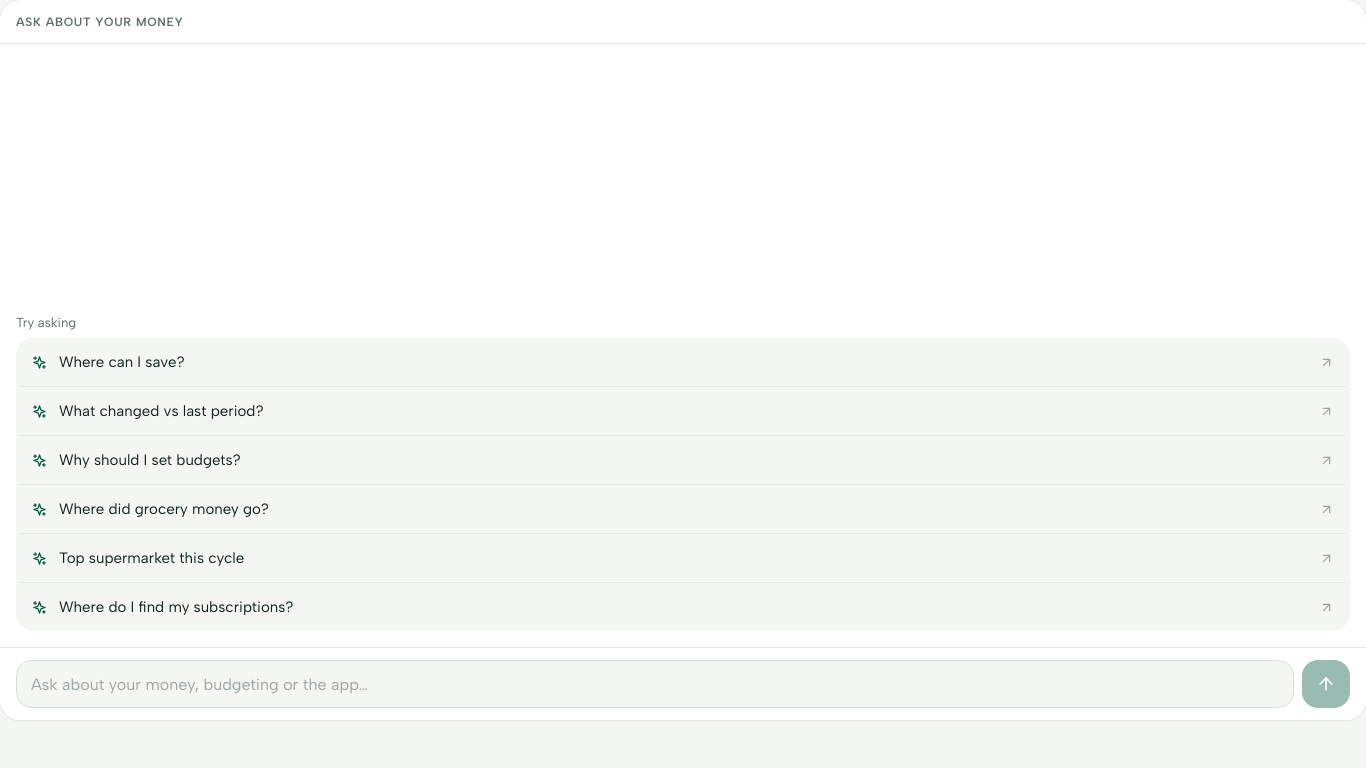
Test case: ChatPanel with evidence › shows the rate-limit message for 429
Type "hello" into the field named "Ask about your spending".
click(655, 684); type("hello")  # box x1=16 y1=660 x2=1294 y2=708
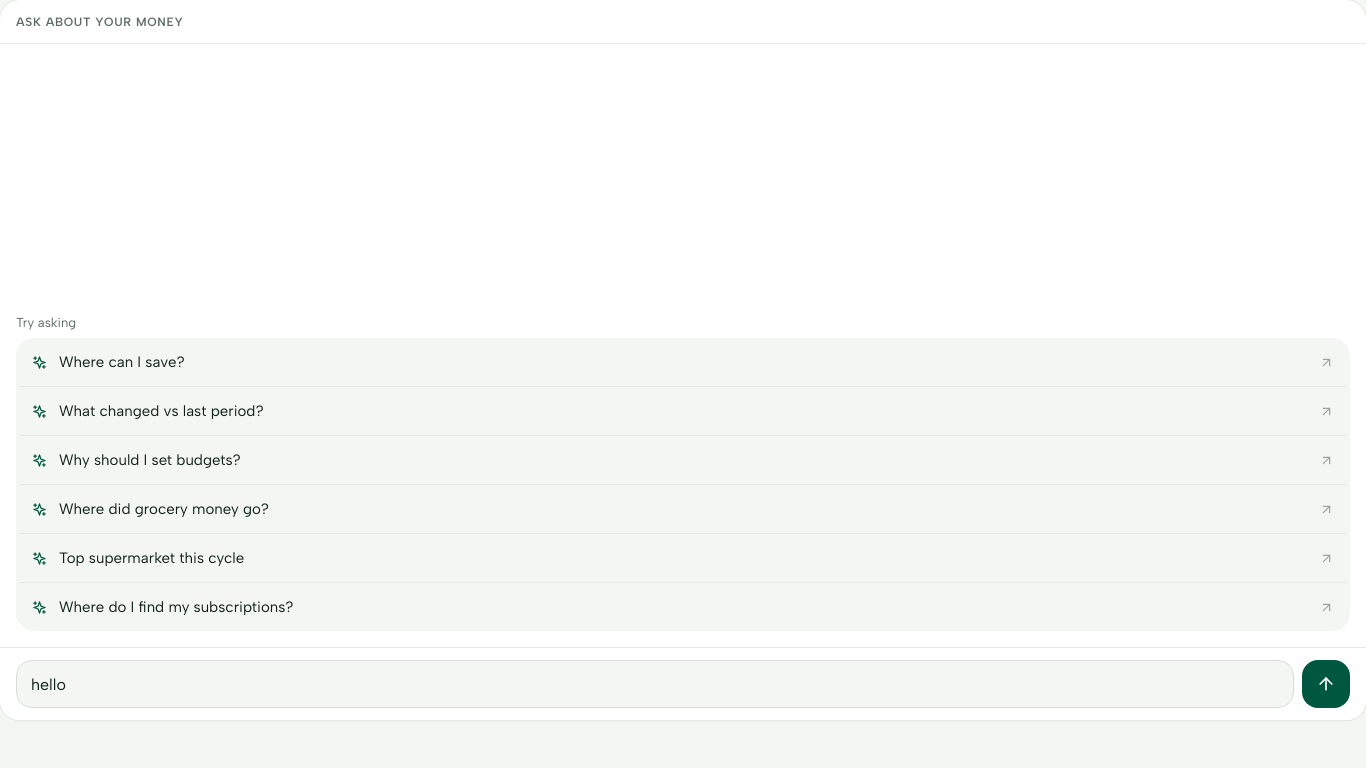
Click the button named "Send".
click(1326, 684)  # box x1=1302 y1=660 x2=1350 y2=708
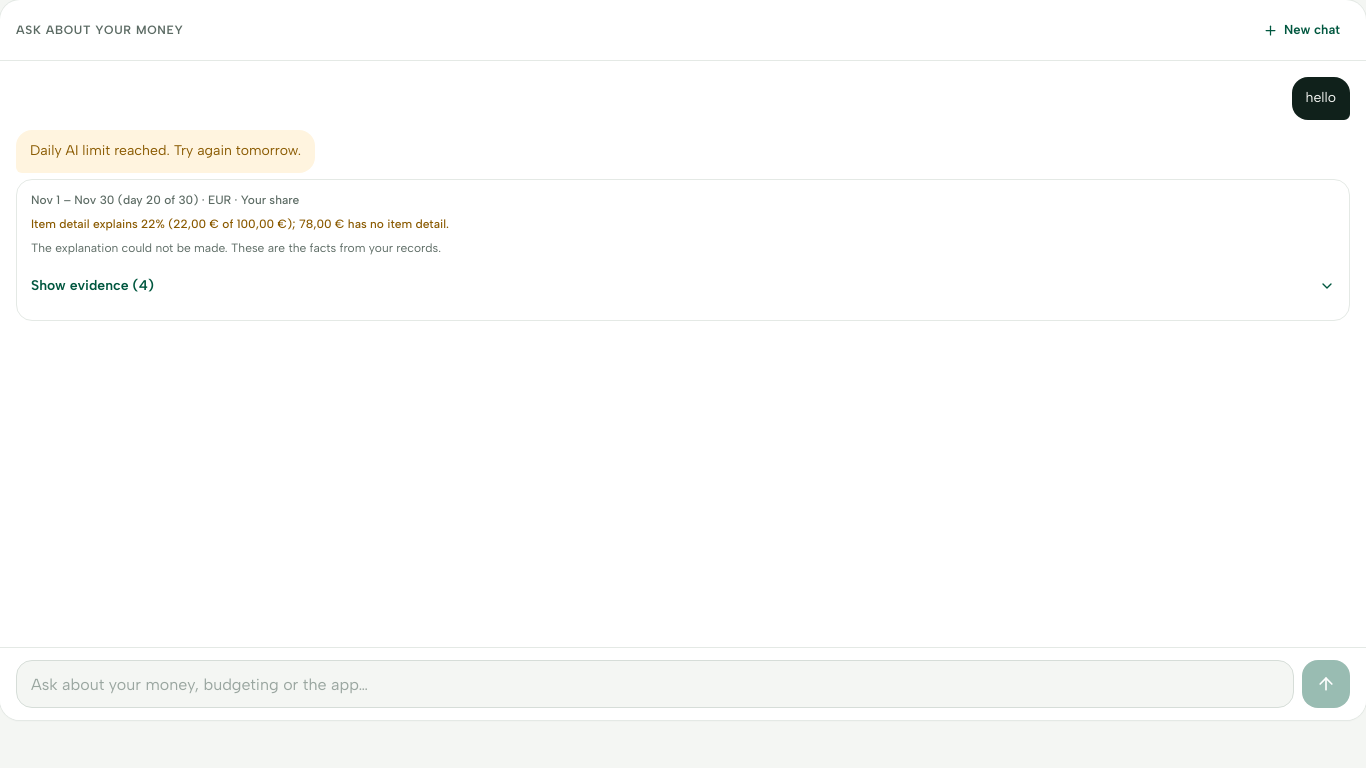
Now the text "Daily AI limit reached. Try again tomorrow." is shown, box x1=30 y1=140 x2=301 y2=163
